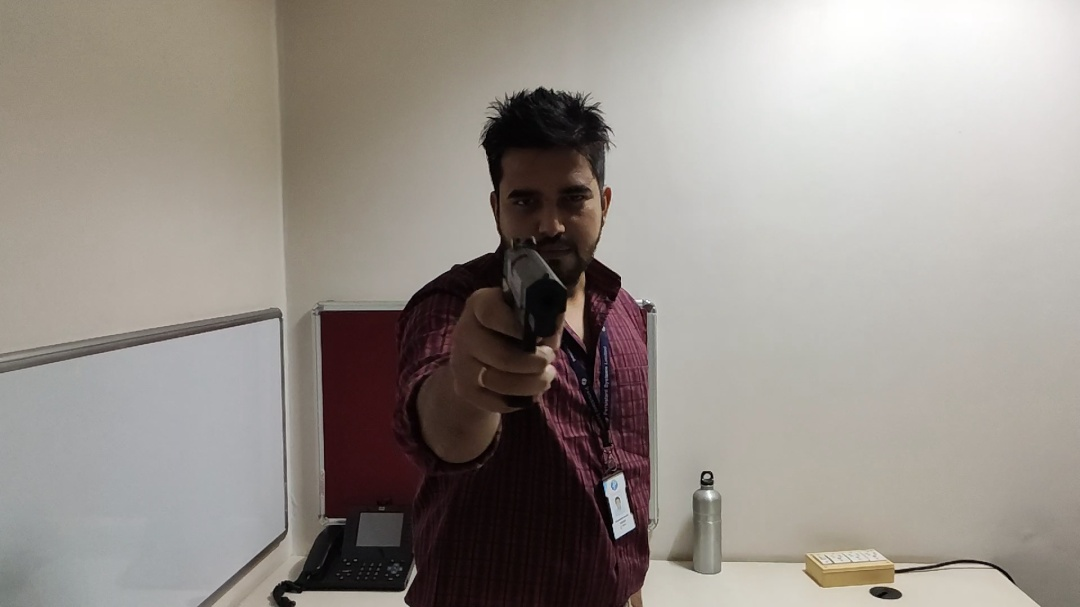gun: (492, 232, 571, 422)
